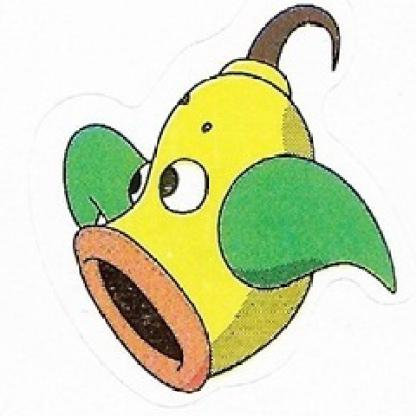Weepinbell: (58, 2, 398, 392)
